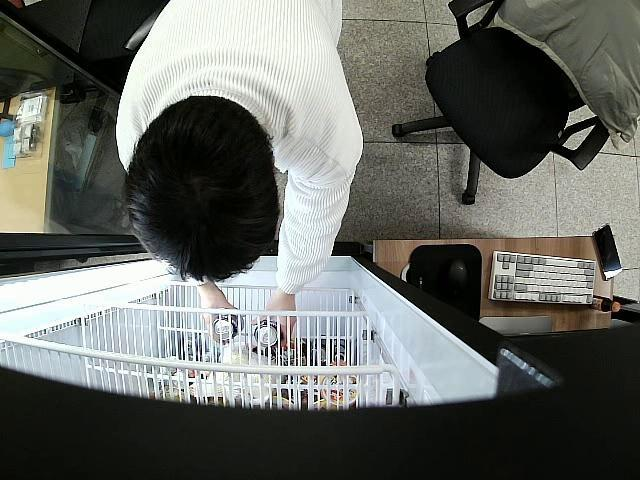14_welchsGrape: (213, 312, 244, 341), (252, 320, 282, 348)
